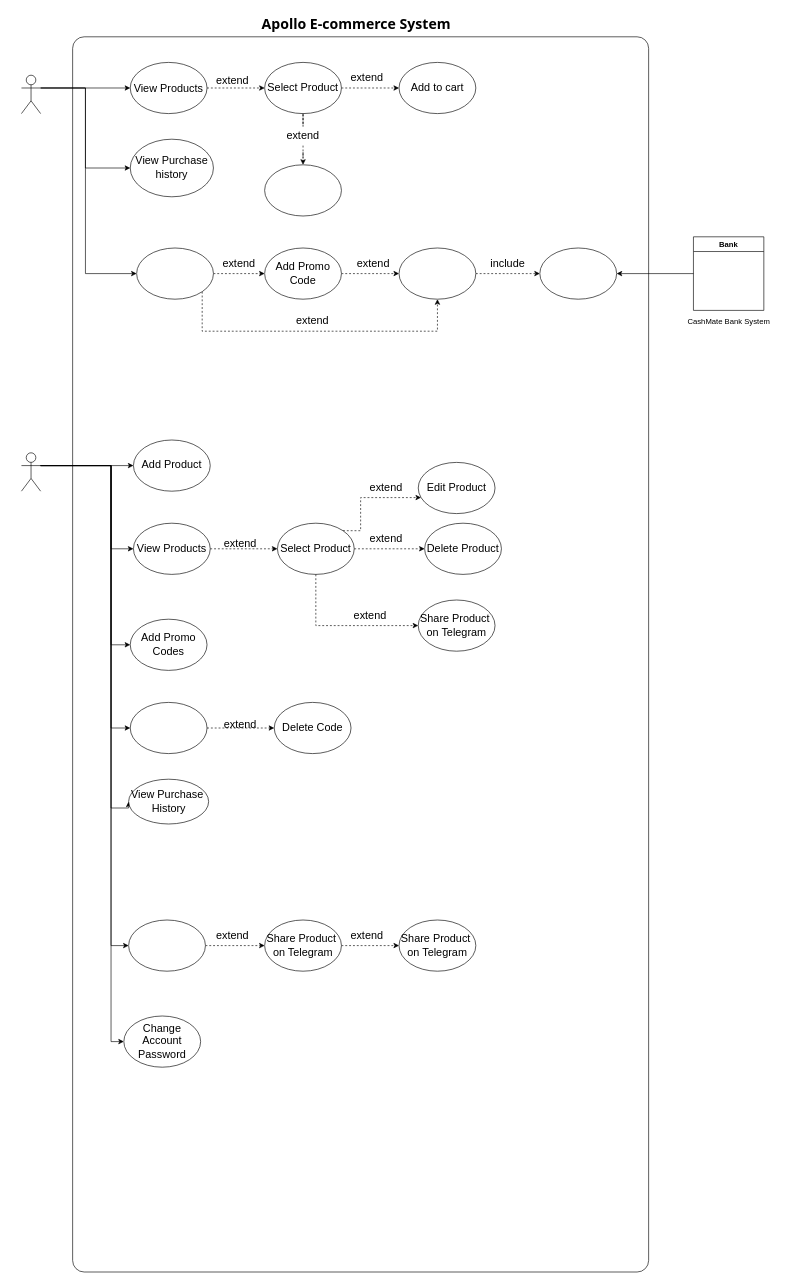
The diagram is 788 pixels wide and 1283 high, and some of its shapes have lost their labels. The box of each missing label's shape, as (x1, y1, x2, y2) in pixels:
Admin: (21, 452, 41, 491)
Check out: (398, 247, 476, 299)
Like/Dislike Product: (264, 164, 341, 216)
User: (21, 75, 41, 114)
Verify Credintial: (539, 247, 617, 299)
View Cart: (136, 247, 213, 299)
View Promo Codes: (130, 702, 207, 754)
View Telegram Messages: (128, 919, 205, 971)
